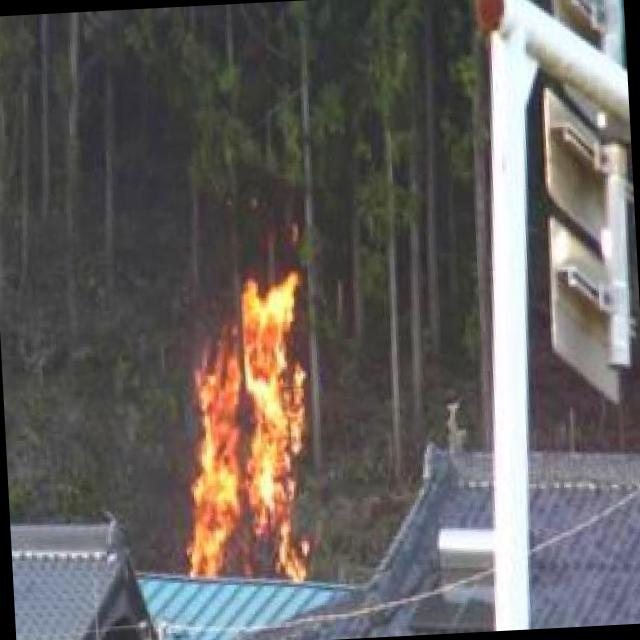Fire: (174, 271, 335, 595)
